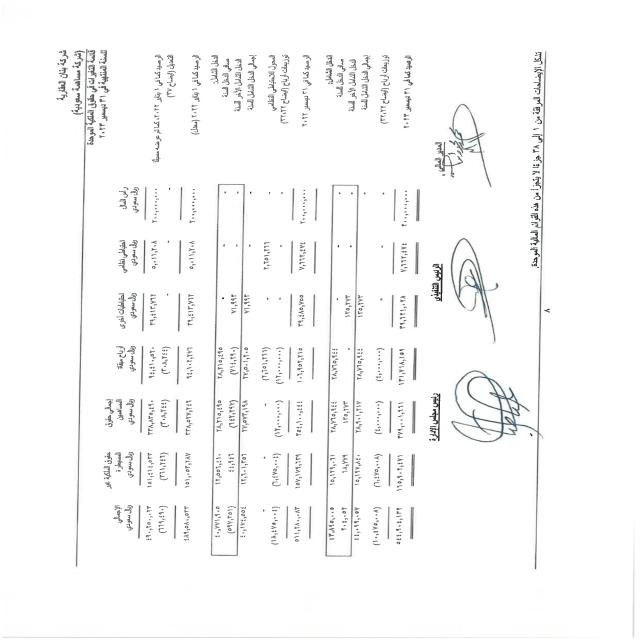financial_sheets: (85, 49, 95, 148)
table: (90, 188, 454, 562)
